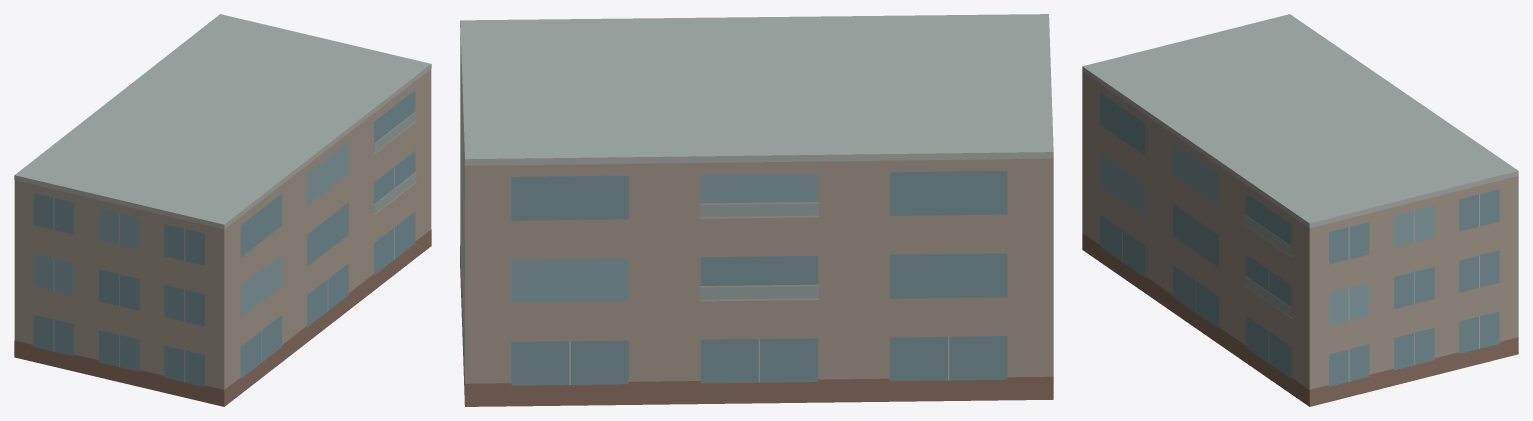
File: survey-upis-33044736.glb
3 views of the same model, side by side, from view 1: azimuth 30°, elevation 25°; view 2: azimuth 150°, elevation 25°; view 3: azimuth 270°, elevation 25° (orthographic). The views are drawn at different scales.
Parts seen in each view (by area): view 1: survey-upis-33044736.tmp; view 2: survey-upis-33044736.tmp; view 3: survey-upis-33044736.tmp.
Part boxes in pixels (x1,y1,x2,y2): survey-upis-33044736.tmp: (14, 14, 431, 406); survey-upis-33044736.tmp: (460, 14, 1053, 406); survey-upis-33044736.tmp: (1082, 14, 1518, 406).
Bounding box in the file's own units: 22.43 × 9.15 × 19.75.
